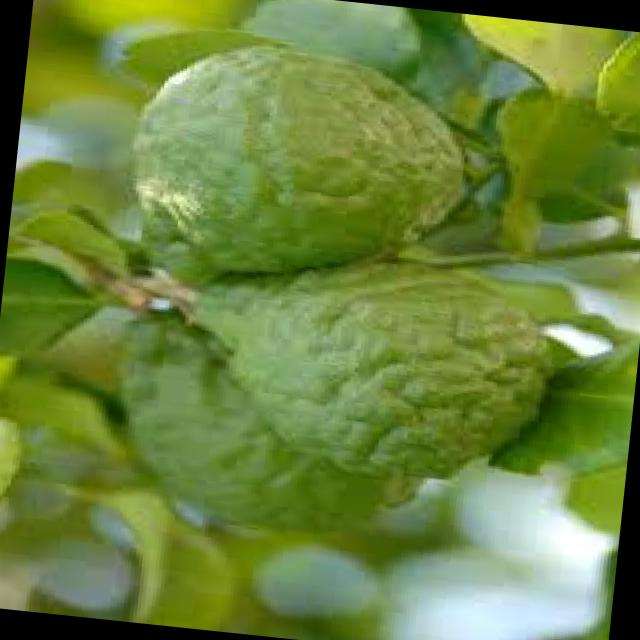Chuc: (170, 235, 572, 498), (112, 30, 479, 307), (100, 316, 432, 548)
